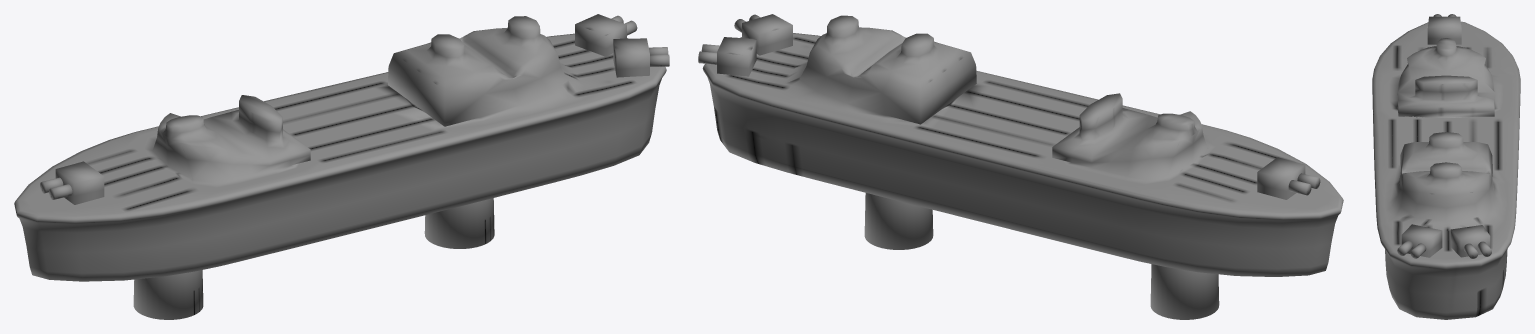
File: Battleship_Destroyer.fbx
3 renders of one model, left to right at view 1: azimuth 30°, elevation 25°; view 2: azimuth 150°, elevation 25°; view 3: azimuth 270°, elevation 25°, orthographic. The views are drawn at different scales.
Visible parts, largest first — view 1: Destroyer; view 2: Destroyer; view 3: Destroyer.
Part boxes in pixels (x1,y1,x2,y2): Destroyer: (14,14,669,319); Destroyer: (698,14,1343,319); Destroyer: (1372,14,1520,319).
Size of the model in its own units: 0.0386 by 0.0115 by 0.00956.
